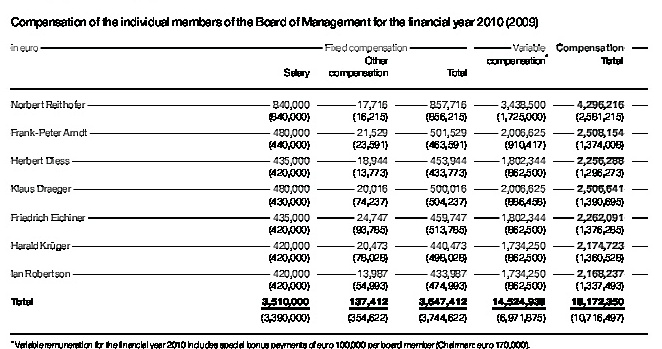table: (0, 0, 662, 349)
